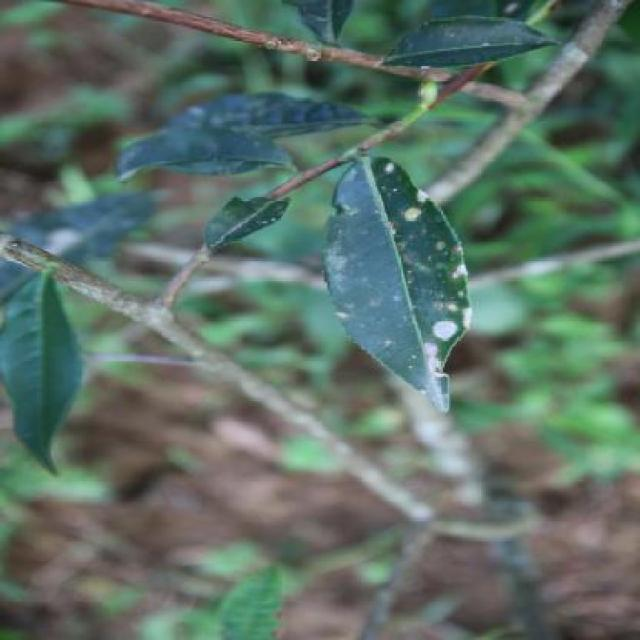Leaf rust of tea: (309, 149, 482, 406)
